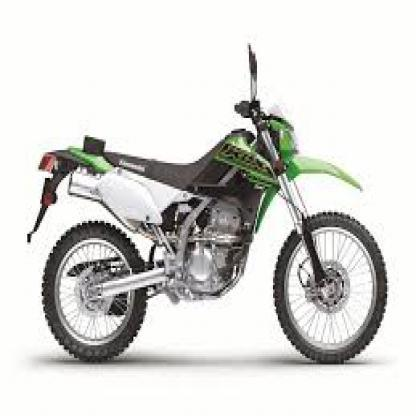Motorcycle: (26, 42, 393, 377)
